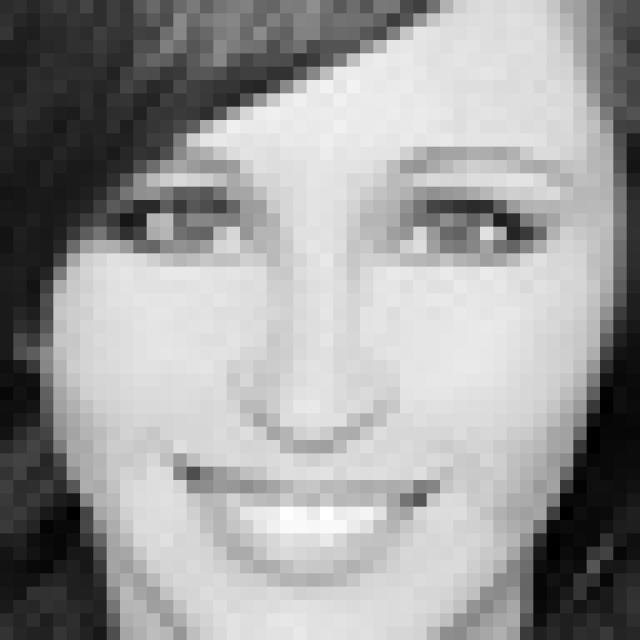happy: (107, 132, 587, 592)
